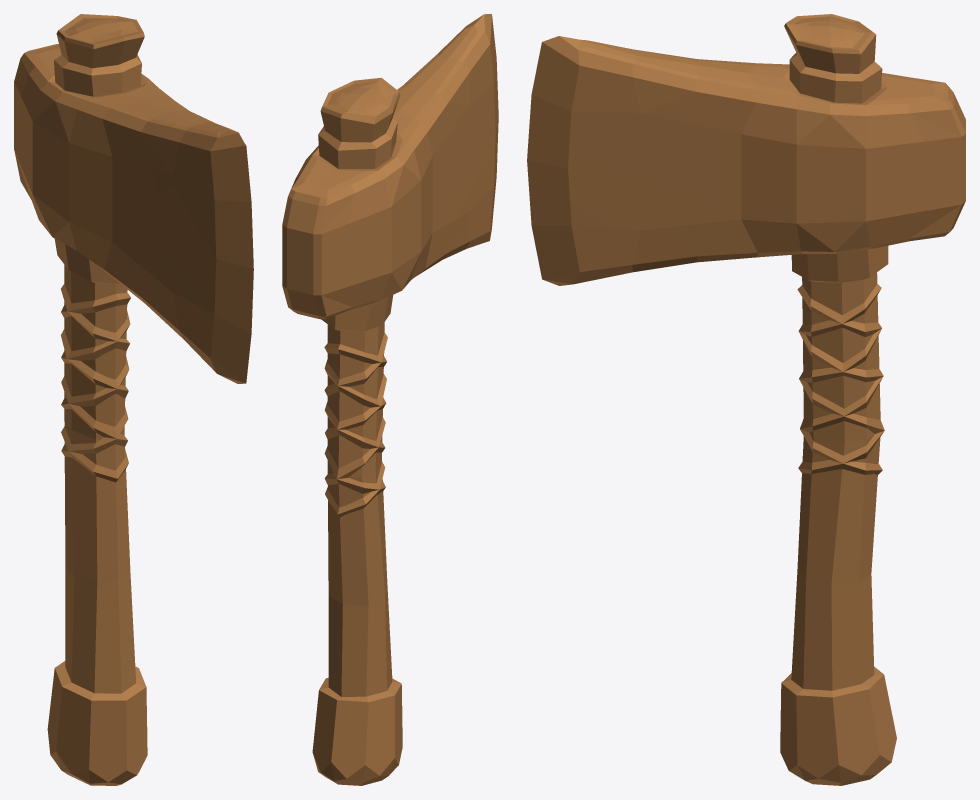
The model's file is Copper_Axe.fbx.
3 renders of one model, left to right at view 1: azimuth 30°, elevation 25°; view 2: azimuth 150°, elevation 25°; view 3: azimuth 270°, elevation 25°, orthographic. The views are drawn at different scales.
Parts seen in each view (by area): view 1: Copper_Axe; view 2: Copper_Axe; view 3: Copper_Axe.
Boxes of the visible parts, <box> form: Copper_Axe: <box>14,14,253,785</box>; Copper_Axe: <box>282,14,498,785</box>; Copper_Axe: <box>527,14,965,785</box>.
Size of the model in its own units: 0.2857 by 2 by 1.06.
